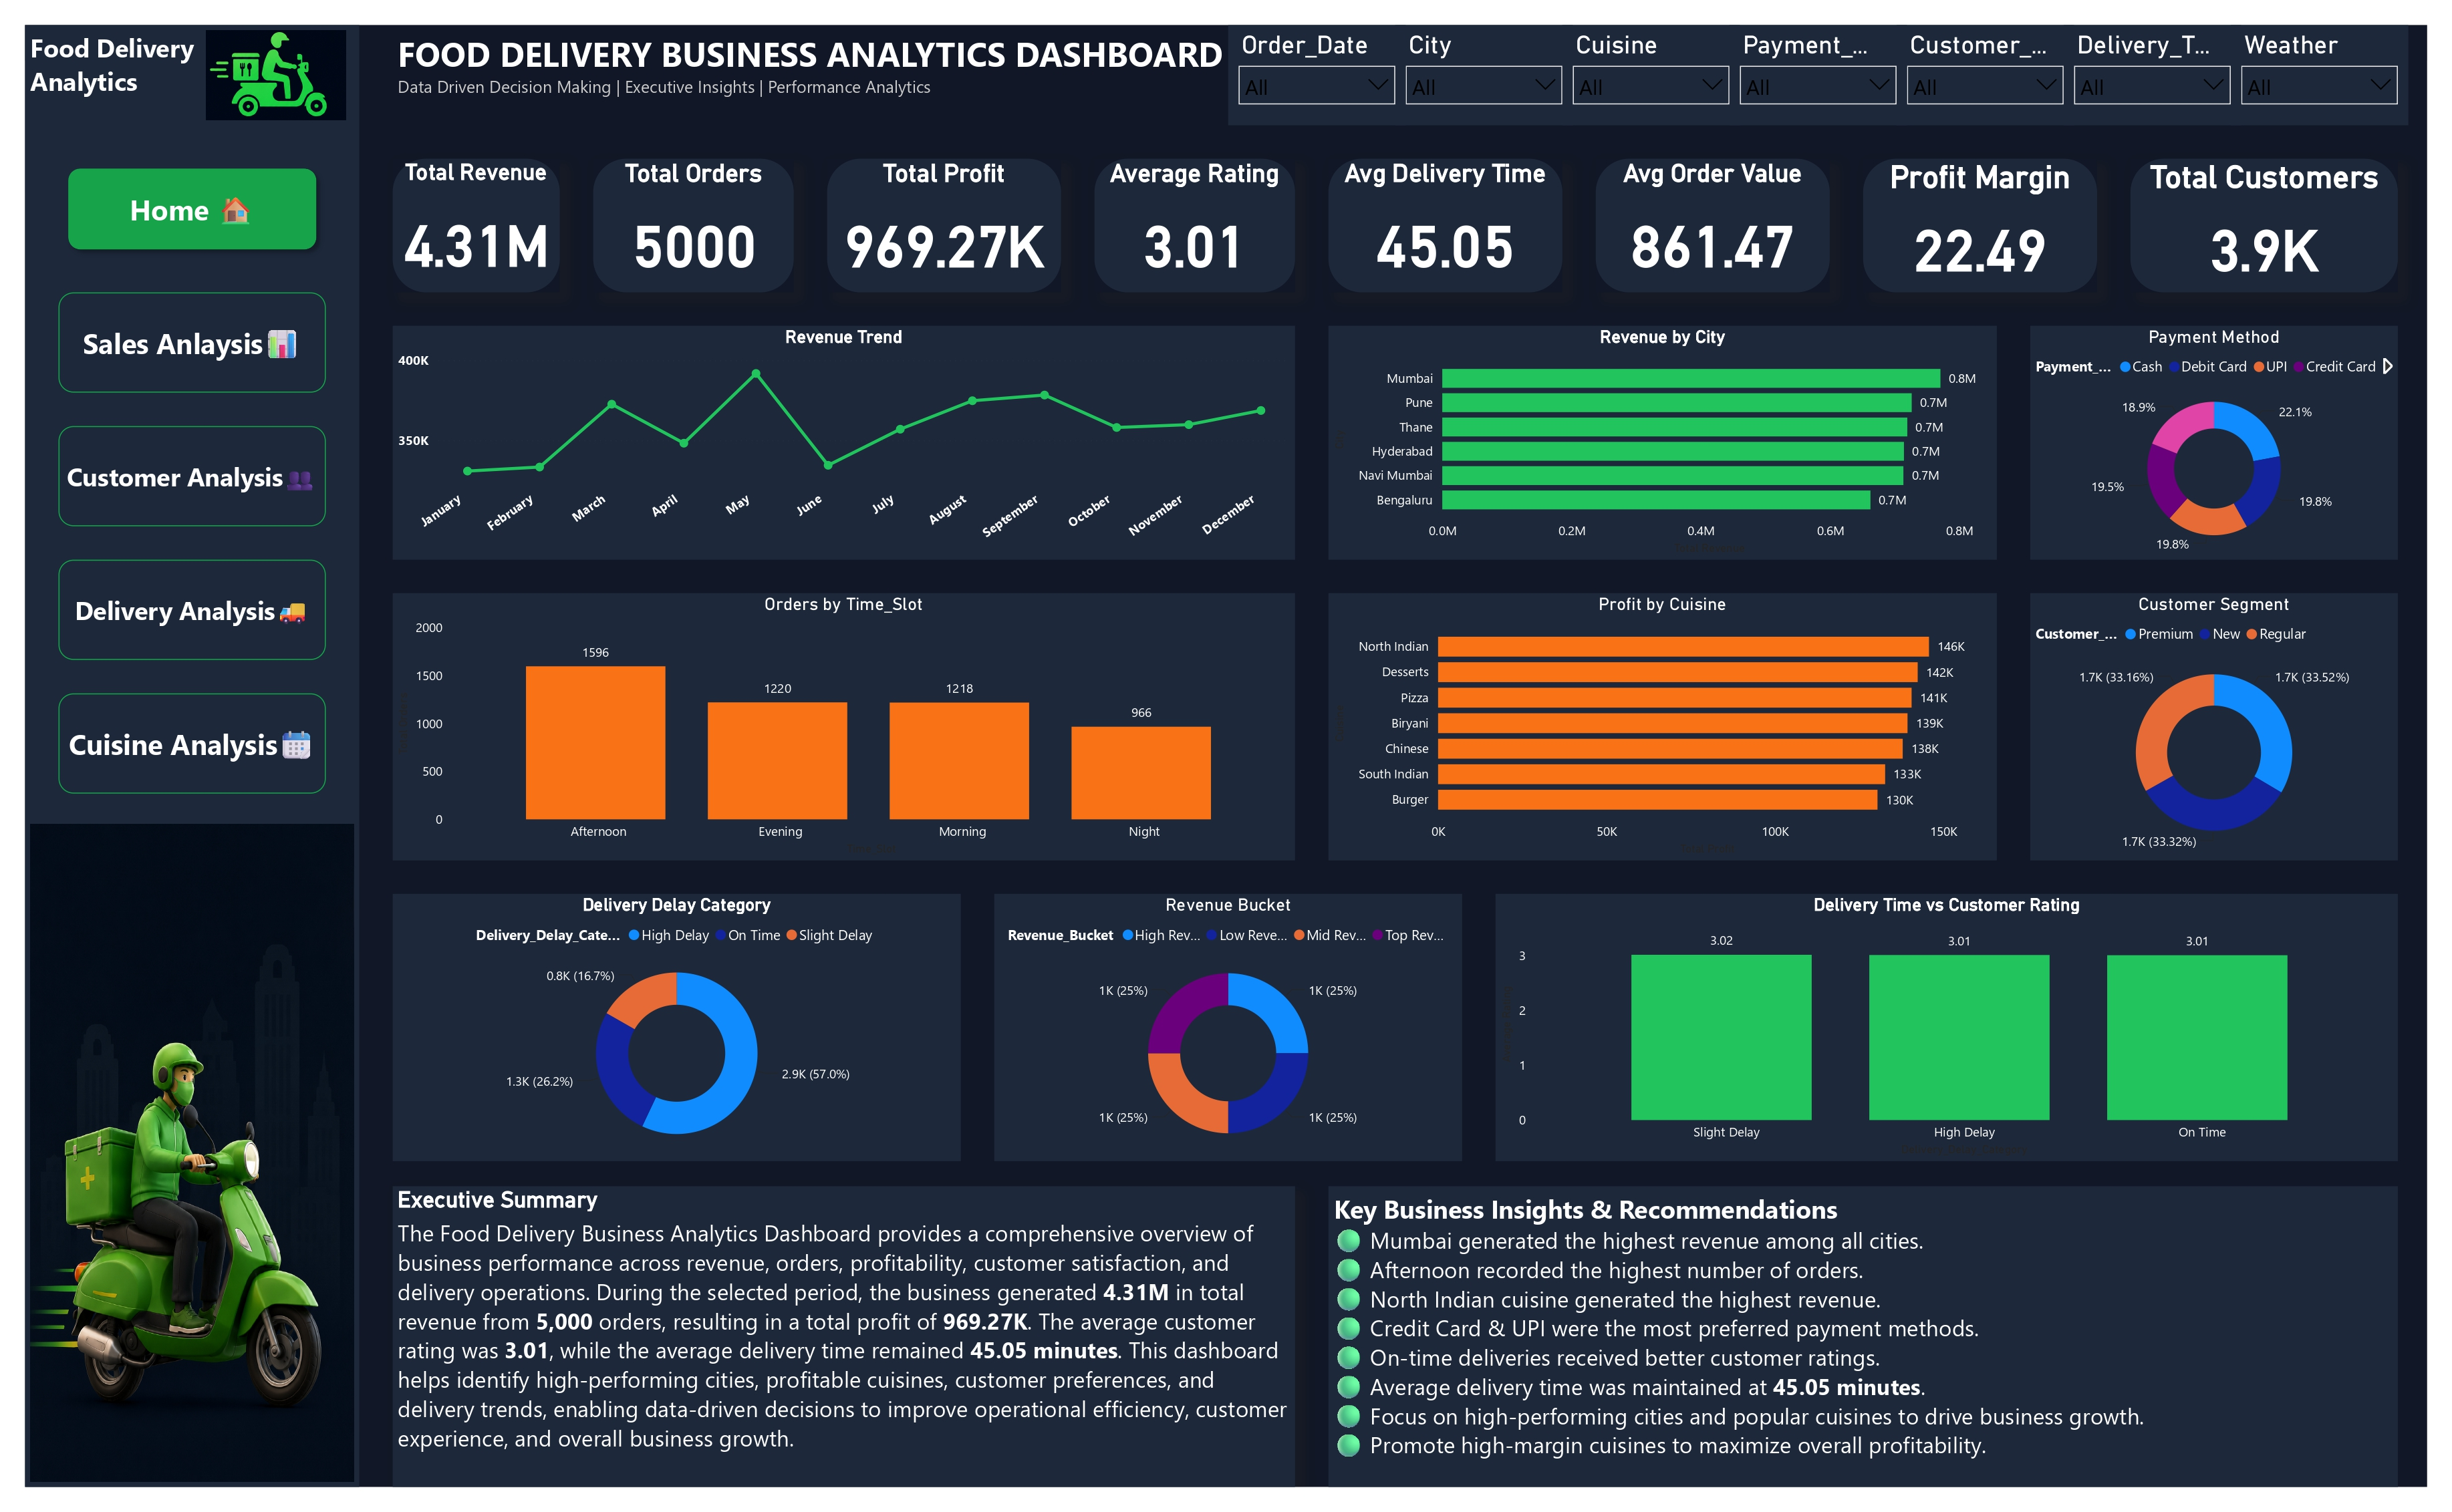

The dashboard page shown, as its layout file describes it:
{"tool":"powerbi","page":{"name":"Home🏠","canvas":[2300,1400],"ordinal":0},"visuals":[{"type":"textbox","box":[352,0,1408,352],"z":0},{"type":"shape","box":[352,128,160,128],"z":1000},{"type":"shape","box":[2016,128,256,128],"z":2000},{"type":"shape","box":[1760,128,224,128],"z":3000},{"type":"shape","box":[1504,128,224,128],"z":4000},{"type":"shape","box":[1248,128,224,128],"z":5000},{"type":"shape","box":[1024,128,192,128],"z":6000},{"type":"shape","box":[768,128,224,128],"z":7000},{"type":"shape","box":[544,128,192,128],"z":8000},{"type":"card","title":"Total Revenue","fields":{"Values":["food_delivery_clean_updated.Total Revenue"]},"box":[352,128,160,128],"z":9000},{"type":"card","title":"Total Orders","fields":{"Values":["food_delivery_clean_updated.Total Orders"]},"box":[544,128,192,128],"z":10000},{"type":"card","title":"Total Profit","fields":{"Values":["food_delivery_clean_updated.Total Profit"]},"box":[768,128,224,128],"z":11000},{"type":"card","title":"Avg Order Value","fields":{"Values":["food_delivery_clean_updated.Average Order Value"]},"box":[1504,128,224,128],"z":12000},{"type":"card","title":"Average Rating","fields":{"Values":["food_delivery_clean_updated.Average Rating"]},"box":[1024,128,192,128],"z":13000},{"type":"card","title":"Avg Delivery Time","fields":{"Values":["food_delivery_clean_updated.Avg Delivery Time"]},"box":[1248,128,224,128],"z":14000},{"type":"card","title":"Profit Margin ","fields":{"Values":["food_delivery_clean_updated.Profit Margin %"]},"box":[1760,128,224,128],"z":15000},{"type":"card","title":"Total Customers","fields":{"Values":["food_delivery_clean_updated.Total Customers"]},"box":[2016,128,256,128],"z":16000},{"type":"lineChart","title":"Revenue Trend","fields":{"Y":["food_delivery_clean_updated.Total Revenue"],"Category":["food_delivery_clean_updated.Order_Date.Variation.Date Hierarchy.Month"]},"box":[352,288,864,224],"z":17000},{"type":"clusteredBarChart","title":"Revenue by City","fields":{"Category":["food_delivery_clean_updated.City"],"Y":["food_delivery_clean_updated.Total Revenue"]},"box":[1248,288,640,224],"z":18000},{"type":"clusteredColumnChart","title":"Orders by Time_Slot","fields":{"Category":["food_delivery_clean_updated.Time_Slot"],"Y":["food_delivery_clean_updated.Total Orders"]},"box":[352,544,864,256],"z":19000},{"type":"clusteredBarChart","title":"Profit by Cuisine","fields":{"Category":["food_delivery_clean_updated.Cuisine"],"Y":["food_delivery_clean_updated.Total Profit"]},"box":[1248,544,640,256],"z":20000},{"type":"donutChart","title":"Payment Method","fields":{"Category":["food_delivery_clean_updated.Payment_Method"],"Y":["food_delivery_clean_updated.Total Orders"]},"box":[1920,288,352,224],"z":21000},{"type":"donutChart","title":"Customer Segment","fields":{"Category":["food_delivery_clean_updated.Customer_Segment"],"Y":["food_delivery_clean_updated.Total Orders"]},"box":[1920,544,352,256],"z":22000},{"type":"donutChart","title":"Delivery Delay Category","fields":{"Category":["food_delivery_clean_updated.Delivery_Delay_Category"],"Y":["food_delivery_clean_updated.Total Orders"]},"box":[352,832,544,256],"z":23000},{"type":"donutChart","title":"Revenue Bucket","fields":{"Category":["food_delivery_clean_updated.Revenue_Bucket"],"Y":["food_delivery_clean_updated.Total Orders"]},"box":[928,832,448,256],"z":24000},{"type":"clusteredColumnChart","title":"Delivery Time vs Customer Rating","fields":{"Y":["food_delivery_clean_updated.Average Rating"],"Category":["food_delivery_clean_updated.Delivery_Delay_Category"]},"box":[1408,832,864,256],"z":25000},{"type":"textbox","title":"Executive Summary","box":[352,1112,864,288],"z":26000},{"type":"textbox","box":[1248,1112,1024,288],"z":27000},{"type":"shape","box":[0,-40,320,1440],"z":28000},{"type":"image","box":[160,0,160,96],"z":29000},{"type":"textbox","box":[0,0,192,96],"z":30000},{"type":"image","box":[0,760,320,640],"z":31000},{"type":"shape","box":[32,128,256,96],"z":32000},{"type":"shape","box":[32,512,256,96],"z":33000},{"type":"shape","box":[32,256,256,96],"z":34000},{"type":"shape","box":[32,384,256,96],"z":35000},{"type":"shape","box":[32,640,256,96],"z":36000},{"type":"slicer","fields":{"Values":["food_delivery_clean_updated.Customer_Segment"]},"box":[1792,0,170,96],"z":36001},{"type":"slicer","fields":{"Values":["food_delivery_clean_updated.City"]},"box":[1312,0,170,96],"z":36002},{"type":"slicer","fields":{"Values":["food_delivery_clean_updated.Cuisine"]},"box":[1472,0,170,96],"z":36003},{"type":"slicer","fields":{"Values":["food_delivery_clean_updated.Payment_Method"]},"box":[1632,0,170,96],"z":36004},{"type":"slicer","fields":{"Values":["food_delivery_clean_updated.Order_Date"]},"box":[1152,0,170,96],"z":36005},{"type":"slicer","fields":{"Values":["food_delivery_clean_updated.Weather"]},"box":[2112,0,170,96],"z":36006},{"type":"slicer","fields":{"Values":["food_delivery_clean_updated.Delivery_Type"]},"box":[1952,0,170,96],"z":36007}]}

Visuals, with their boxes on the page's 2300x1400 design canvas (x1, y1, x2, y2). These are canvas units, not pixel positions in the 2452x1512 screenshot, which may show the page scaled, cropped or inside an application window:
textbox: pyautogui.locateOnScreen(352, 0, 1760, 352)
shape: pyautogui.locateOnScreen(352, 128, 512, 256)
shape: pyautogui.locateOnScreen(2016, 128, 2272, 256)
shape: pyautogui.locateOnScreen(1760, 128, 1984, 256)
shape: pyautogui.locateOnScreen(1504, 128, 1728, 256)
shape: pyautogui.locateOnScreen(1248, 128, 1472, 256)
shape: pyautogui.locateOnScreen(1024, 128, 1216, 256)
shape: pyautogui.locateOnScreen(768, 128, 992, 256)
shape: pyautogui.locateOnScreen(544, 128, 736, 256)
"Total Revenue" card: pyautogui.locateOnScreen(352, 128, 512, 256)
"Total Orders" card: pyautogui.locateOnScreen(544, 128, 736, 256)
"Total Profit" card: pyautogui.locateOnScreen(768, 128, 992, 256)
"Avg Order Value" card: pyautogui.locateOnScreen(1504, 128, 1728, 256)
"Average Rating" card: pyautogui.locateOnScreen(1024, 128, 1216, 256)
"Avg Delivery Time" card: pyautogui.locateOnScreen(1248, 128, 1472, 256)
"Profit Margin " card: pyautogui.locateOnScreen(1760, 128, 1984, 256)
"Total Customers" card: pyautogui.locateOnScreen(2016, 128, 2272, 256)
"Revenue Trend" lineChart: pyautogui.locateOnScreen(352, 288, 1216, 512)
"Revenue by City" clusteredBarChart: pyautogui.locateOnScreen(1248, 288, 1888, 512)
"Orders by Time_Slot" clusteredColumnChart: pyautogui.locateOnScreen(352, 544, 1216, 800)
"Profit by Cuisine" clusteredBarChart: pyautogui.locateOnScreen(1248, 544, 1888, 800)
"Payment Method" donutChart: pyautogui.locateOnScreen(1920, 288, 2272, 512)
"Customer Segment" donutChart: pyautogui.locateOnScreen(1920, 544, 2272, 800)
"Delivery Delay Category" donutChart: pyautogui.locateOnScreen(352, 832, 896, 1088)
"Revenue Bucket" donutChart: pyautogui.locateOnScreen(928, 832, 1376, 1088)
"Delivery Time vs Customer Rating" clusteredColumnChart: pyautogui.locateOnScreen(1408, 832, 2272, 1088)
"Executive Summary" textbox: pyautogui.locateOnScreen(352, 1112, 1216, 1400)
textbox: pyautogui.locateOnScreen(1248, 1112, 2272, 1400)
shape: pyautogui.locateOnScreen(0, -40, 320, 1400)
image: pyautogui.locateOnScreen(160, 0, 320, 96)
textbox: pyautogui.locateOnScreen(0, 0, 192, 96)
image: pyautogui.locateOnScreen(0, 760, 320, 1400)
shape: pyautogui.locateOnScreen(32, 128, 288, 224)
shape: pyautogui.locateOnScreen(32, 512, 288, 608)
shape: pyautogui.locateOnScreen(32, 256, 288, 352)
shape: pyautogui.locateOnScreen(32, 384, 288, 480)
shape: pyautogui.locateOnScreen(32, 640, 288, 736)
slicer - food_delivery_clean_updated.Customer_Segment: pyautogui.locateOnScreen(1792, 0, 1962, 96)
slicer - food_delivery_clean_updated.City: pyautogui.locateOnScreen(1312, 0, 1482, 96)
slicer - food_delivery_clean_updated.Cuisine: pyautogui.locateOnScreen(1472, 0, 1642, 96)
slicer - food_delivery_clean_updated.Payment_Method: pyautogui.locateOnScreen(1632, 0, 1802, 96)
slicer - food_delivery_clean_updated.Order_Date: pyautogui.locateOnScreen(1152, 0, 1322, 96)
slicer - food_delivery_clean_updated.Weather: pyautogui.locateOnScreen(2112, 0, 2282, 96)
slicer - food_delivery_clean_updated.Delivery_Type: pyautogui.locateOnScreen(1952, 0, 2122, 96)
